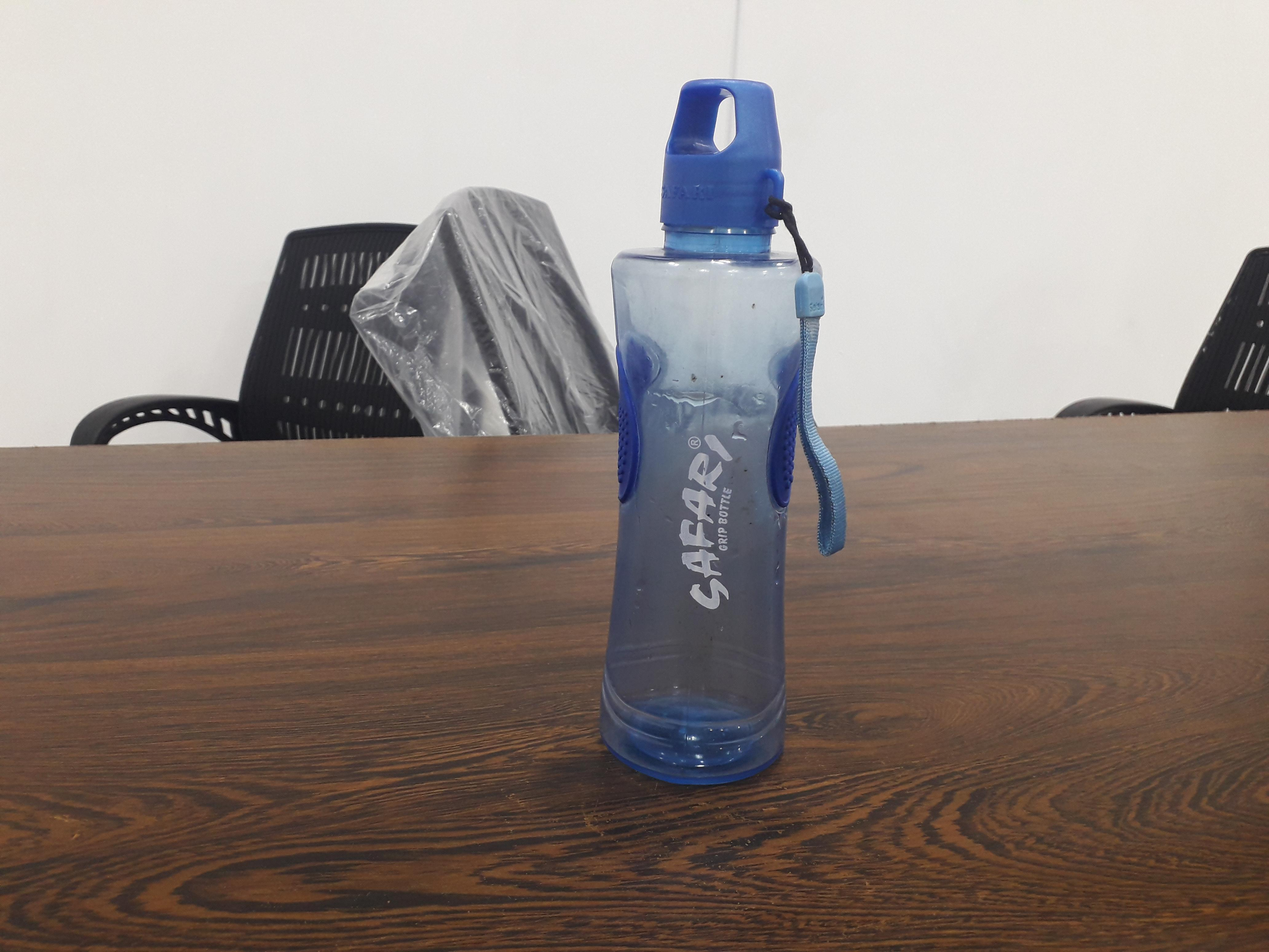gym bottle: (602, 70, 848, 795)
